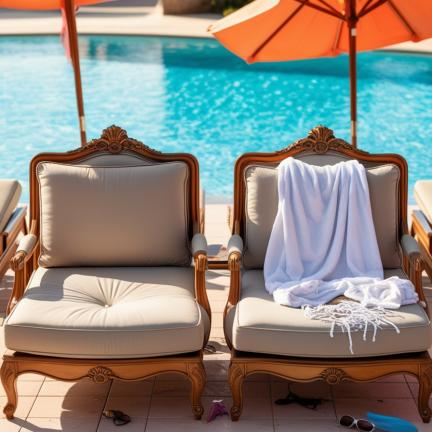empty chair: (1, 126, 211, 419)
occupied chair: (224, 126, 432, 422)
